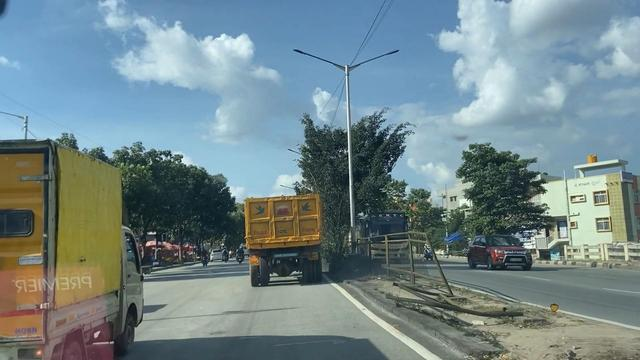HMV: (3, 138, 142, 360), (241, 194, 322, 284)
